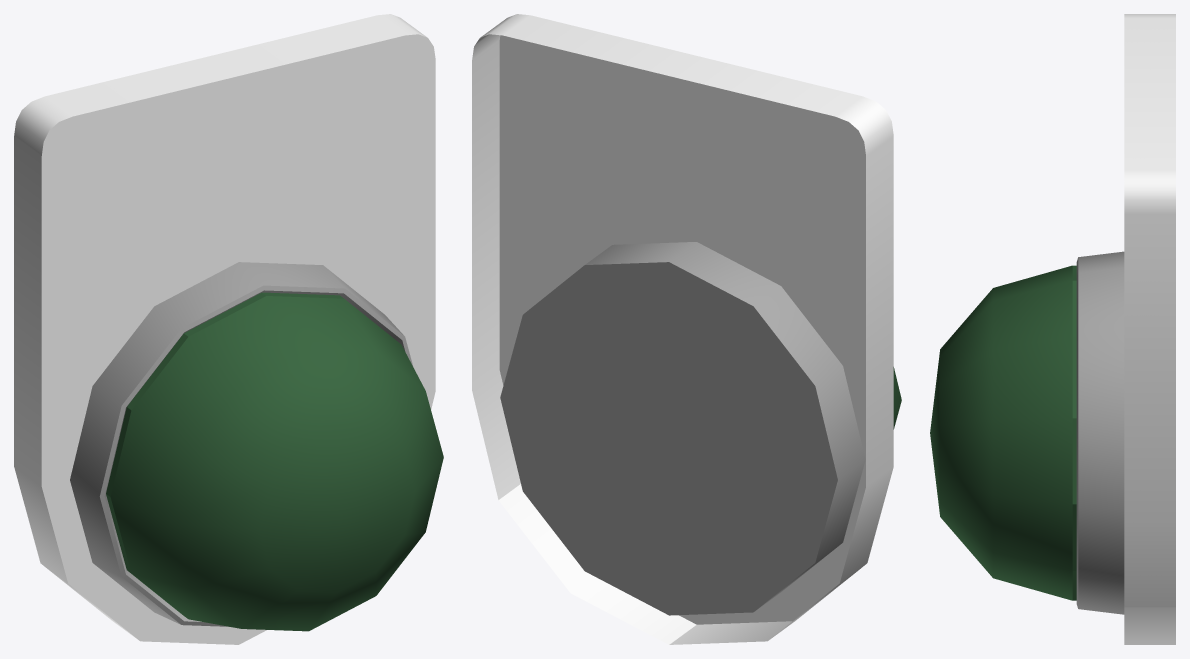
The model's file is button_OFF_GRENN.fbx.
The picture shows the model from 3 angles, left to right: view 1: azimuth 30°, elevation 25°; view 2: azimuth 150°, elevation 25°; view 3: azimuth 270°, elevation 25°; orthographic projection. The views are drawn at different scales.
Parts seen in each view (by area): view 1: button_OFF_GRENN; view 2: button_OFF_GRENN; view 3: button_OFF_GRENN.
Boxes of the visible parts, x1,y1,x2,y2 form: button_OFF_GRENN: (14,14,443,644); button_OFF_GRENN: (472,14,901,644); button_OFF_GRENN: (930,14,1175,644).
Size of the model in its own units: 0.0293 by 0.0405 by 0.017.
Materials: 1 (1 with a texture image).
